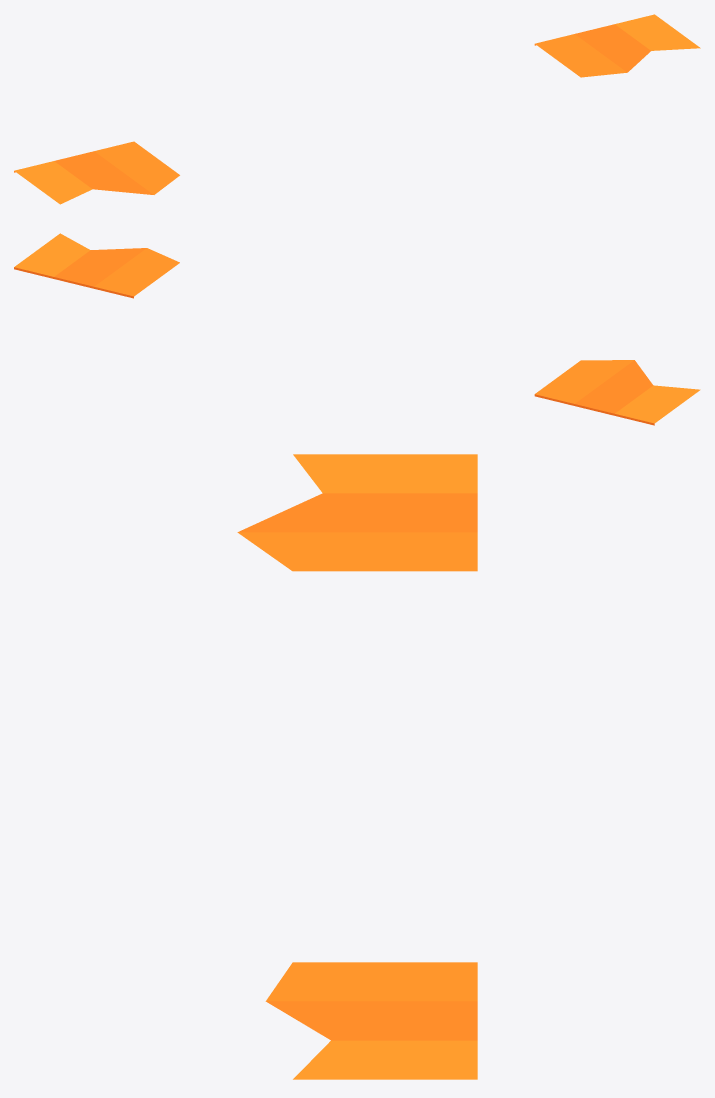
Rendered from edge_mouth_lava.glb.
The picture shows the model from 3 angles, top to bottom: view 1: azimuth 30°, elevation 25°; view 2: azimuth 150°, elevation 25°; view 3: azimuth 270°, elevation 25°; orthographic projection. The views are drawn at different scales.
Visible parts, largest first — view 1: edge_mouth_lava; view 2: edge_mouth_lava; view 3: edge_mouth_lava.
Part boxes in pixels (<box>): edge_mouth_lava: <box>14,14,700,204</box>; edge_mouth_lava: <box>14,233,700,425</box>; edge_mouth_lava: <box>237,454,477,1079</box>.
Size of the model in its own units: 3.2 by 0.01 by 0.5199.
